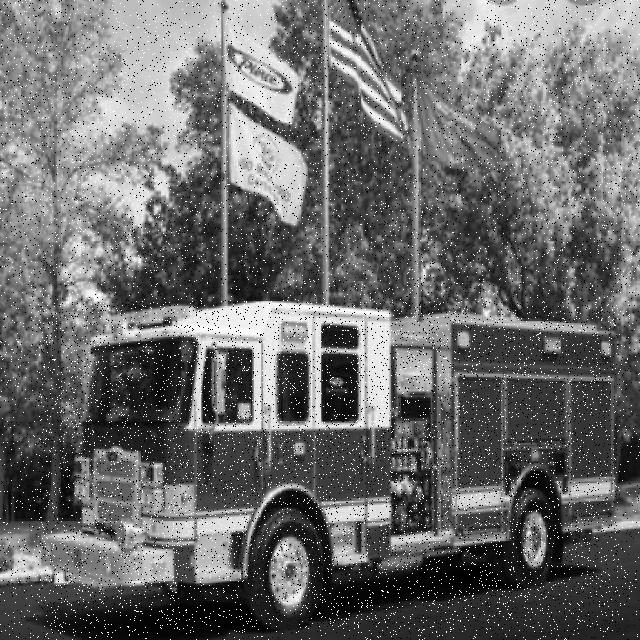Fire Truck: (38, 302, 618, 633)
